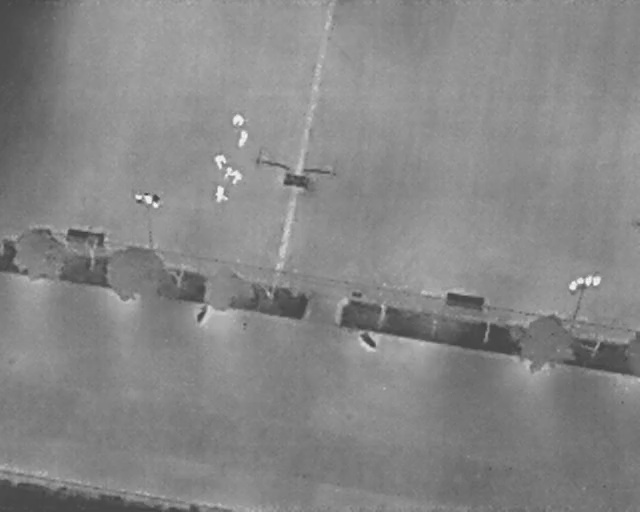Person: (215, 184, 228, 203), (237, 129, 249, 149), (232, 112, 244, 128), (214, 153, 226, 169), (232, 169, 243, 184), (225, 166, 235, 179)
